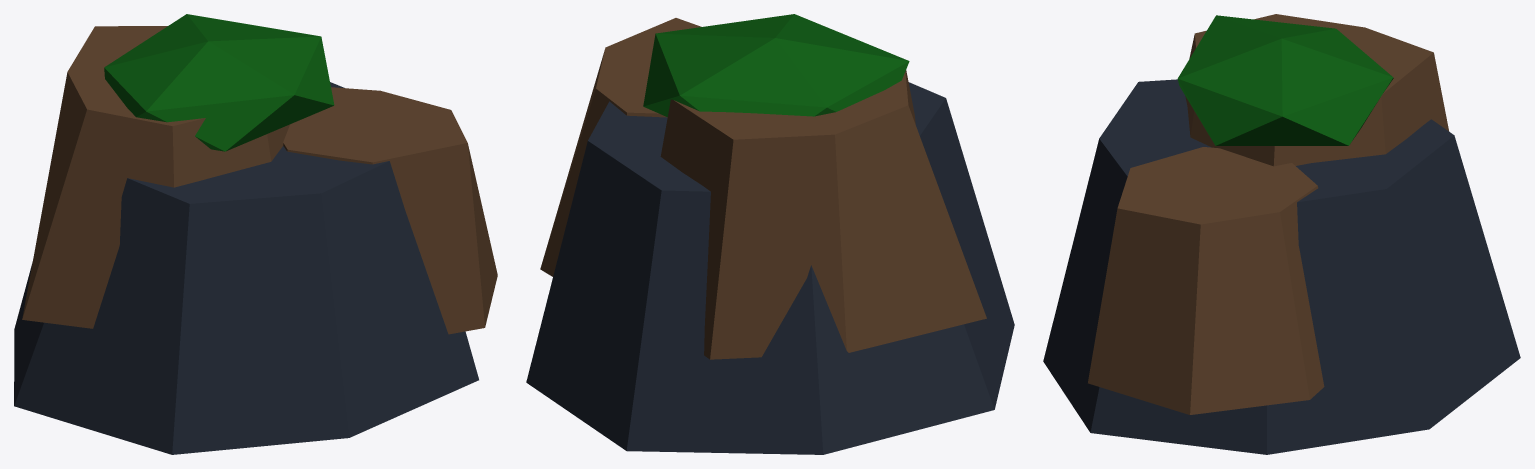
Rendered from earth_cliff_layered.glb.
3 views of the same model, side by side, from view 1: azimuth 30°, elevation 25°; view 2: azimuth 150°, elevation 25°; view 3: azimuth 270°, elevation 25° (orthographic). The views are drawn at different scales.
Parts seen in each view (by area): view 1: CliffRock; view 2: CliffRock; view 3: CliffRock.
Part boxes in pixels (x1,y1,x2,y2): CliffRock: (14, 14, 497, 454); CliffRock: (526, 14, 1014, 454); CliffRock: (1043, 14, 1520, 454).
Bounding box in the file's own units: 5.03 × 3.4 × 4.7.
